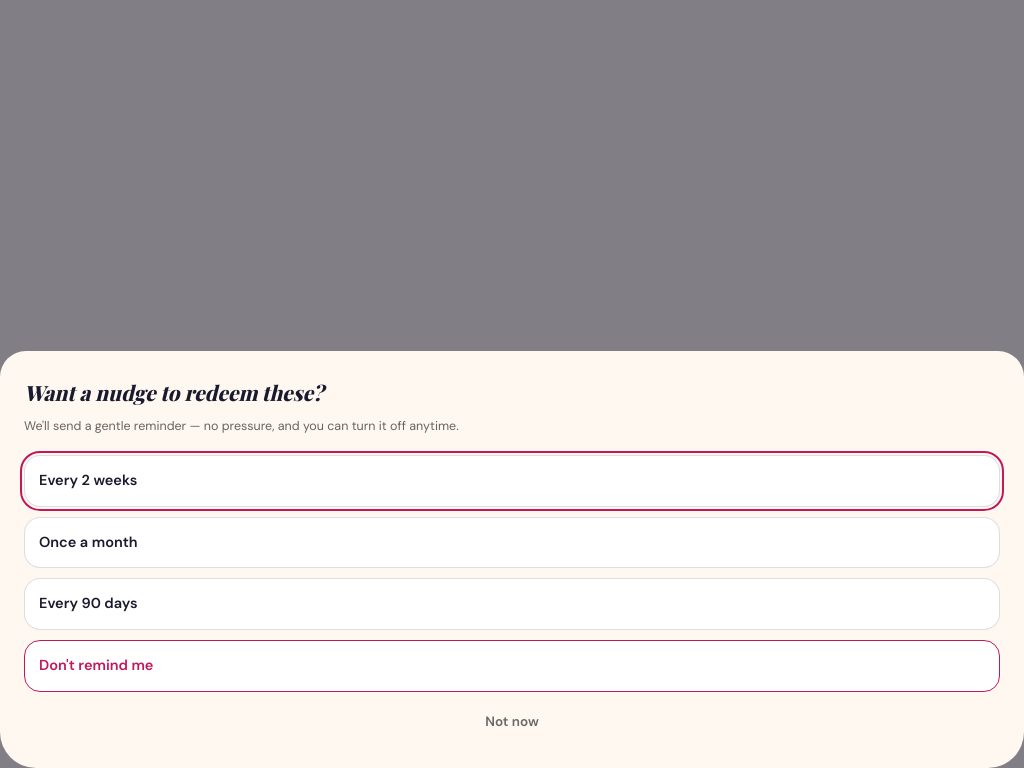
Test: ReminderFrequencyPicker › prompts account-linking instead of saving when choosing a cadence while logged out
Click the button "Once a month" at x=88, y=542, box [24,516,1000,568]
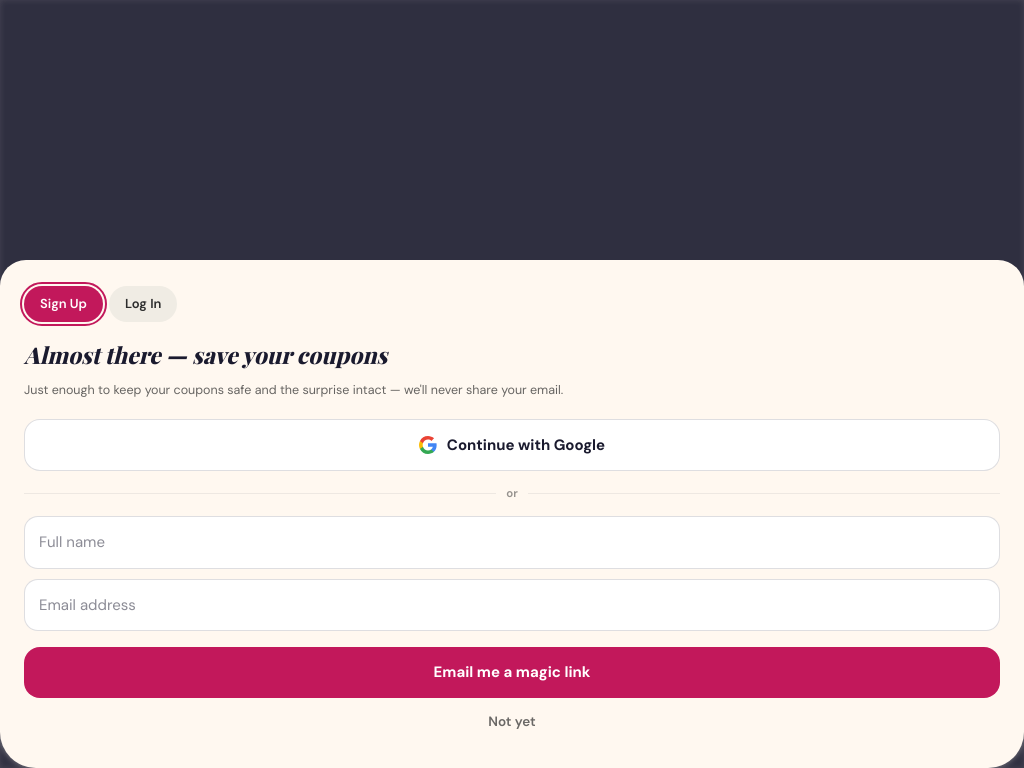
Result: the heading "Almost there — save your coupons" is shown at [24,339,387,370]
